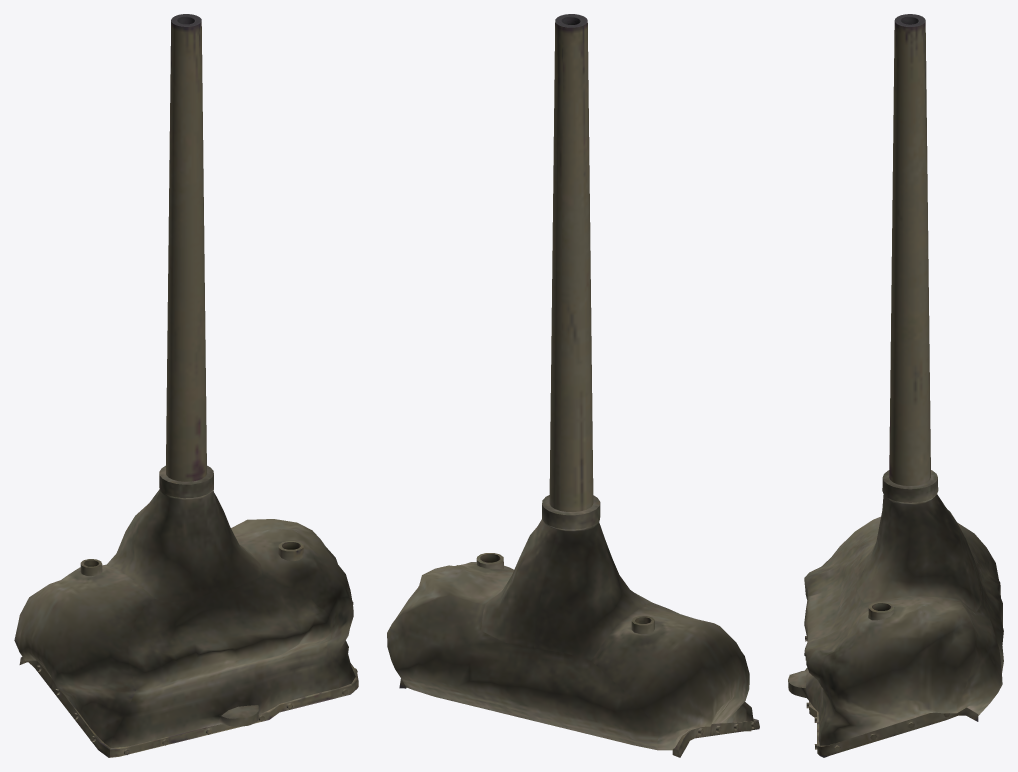
The model's file is Gun_06.glb.
3 views of the same model, side by side, from view 1: azimuth 30°, elevation 25°; view 2: azimuth 150°, elevation 25°; view 3: azimuth 270°, elevation 25° (orthographic). The views are drawn at different scales.
Parts seen in each view (by area): view 1: set_0_group_0; view 2: set_0_group_0; view 3: set_0_group_0.
Part boxes in pixels (x1,y1,x2,y2): set_0_group_0: (14,14,358,757); set_0_group_0: (387,14,759,757); set_0_group_0: (788,14,1003,757).
Size of the model in its own units: 1.51 by 3.22 by 0.929.
Materials: 1 (1 with a texture image).
